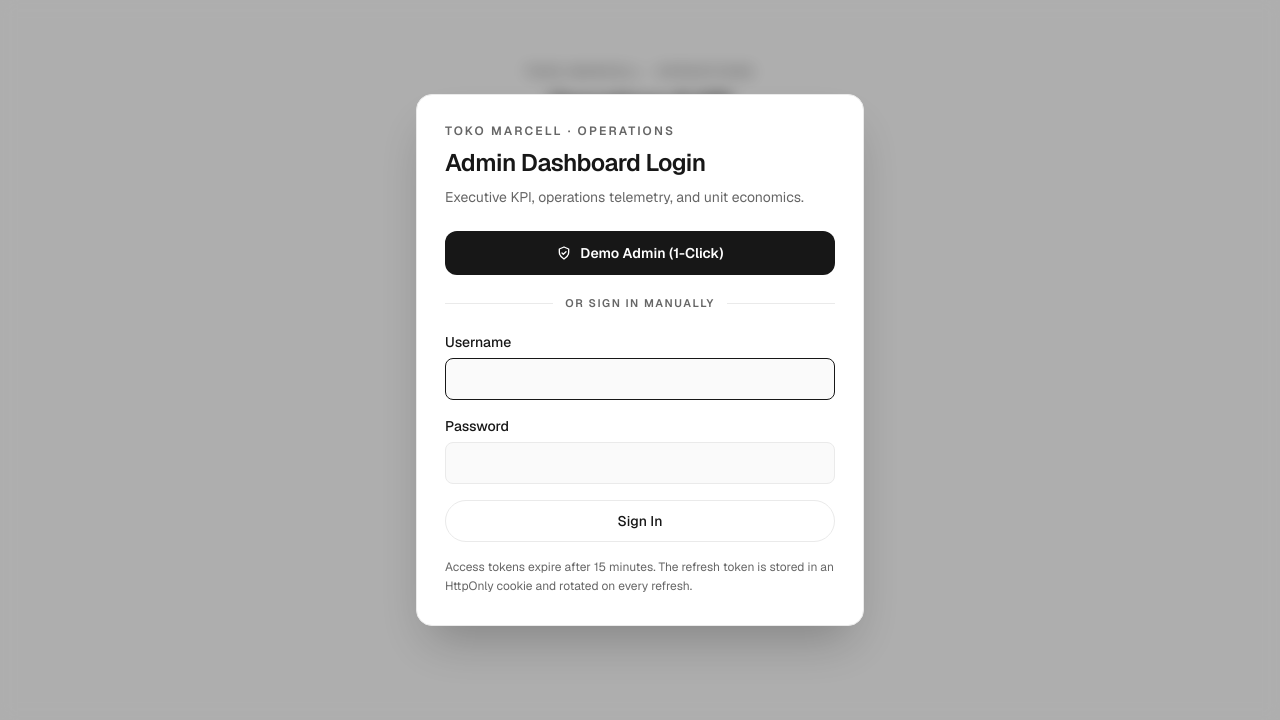
Test: AdminKpiPage › signs out and returns to the login gate
The width and height of the screenshot is (1280, 720).
Click the button "Demo Admin (1-Click)" at (640, 253), box [445, 231, 835, 275]
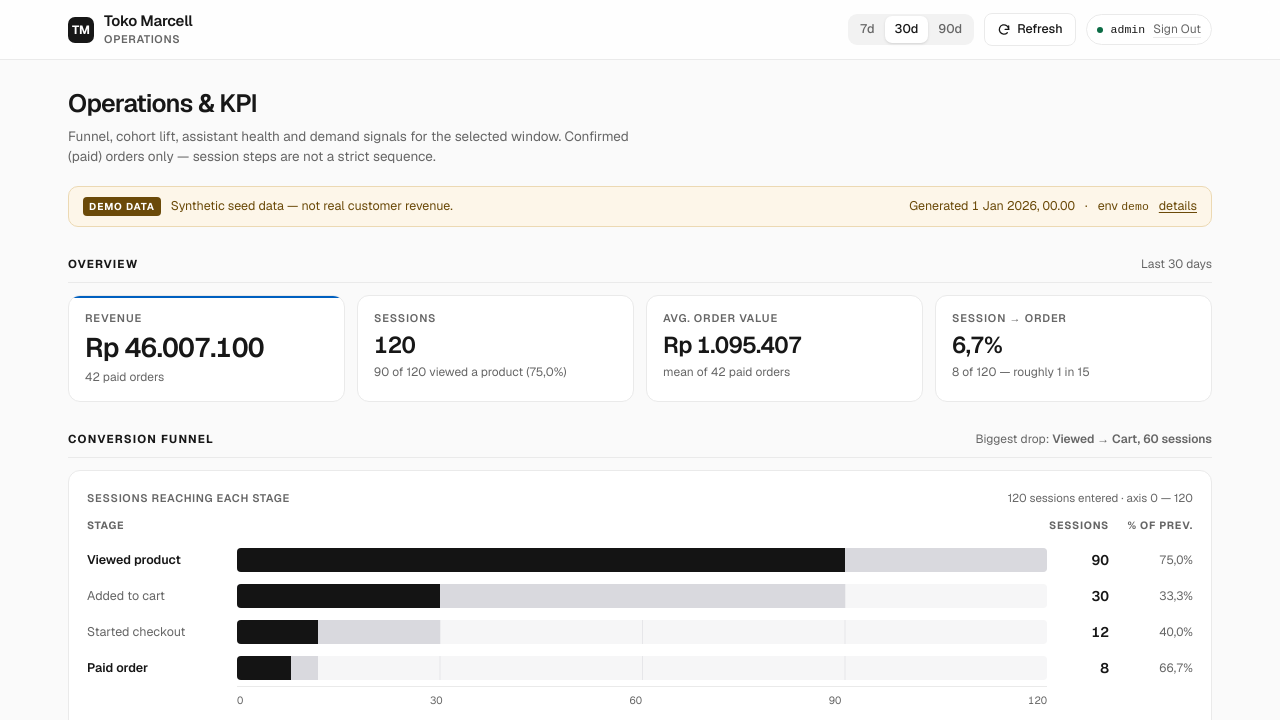
Click the button "Sign Out" at (1177, 30), box [1153, 21, 1201, 38]
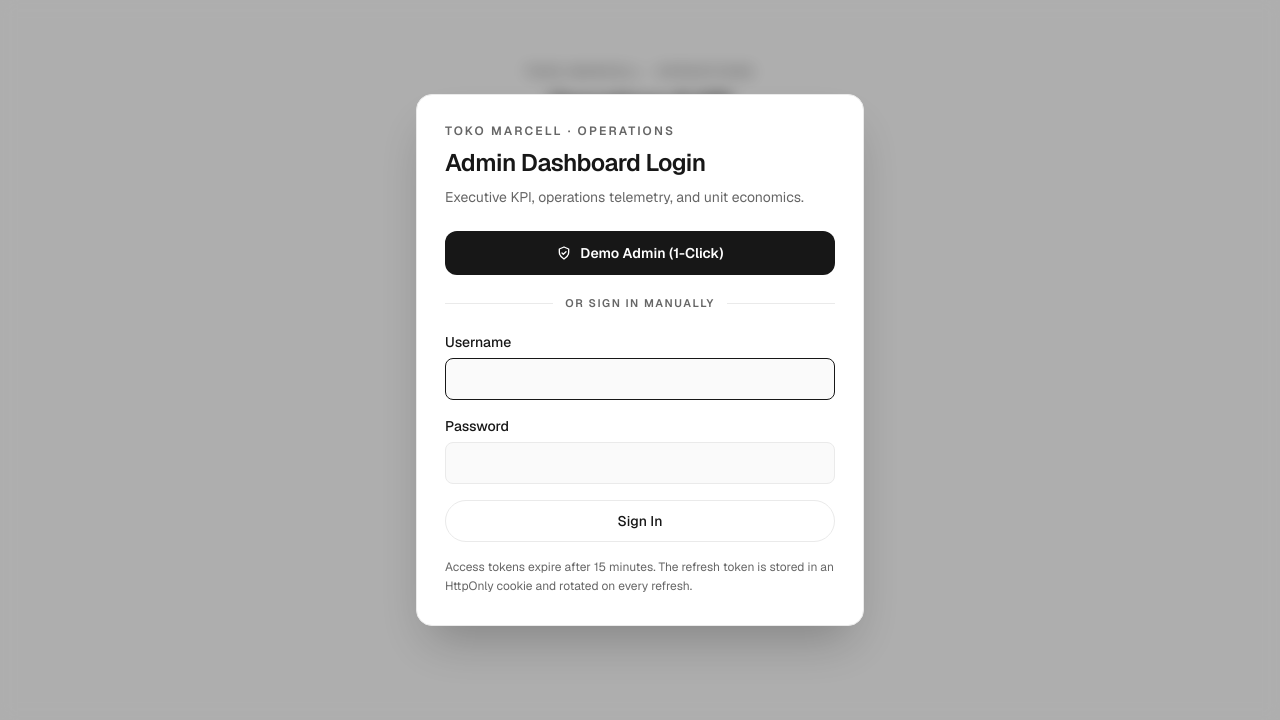
Expected: the heading "Admin Dashboard Login" is shown, [445, 147, 706, 179]
